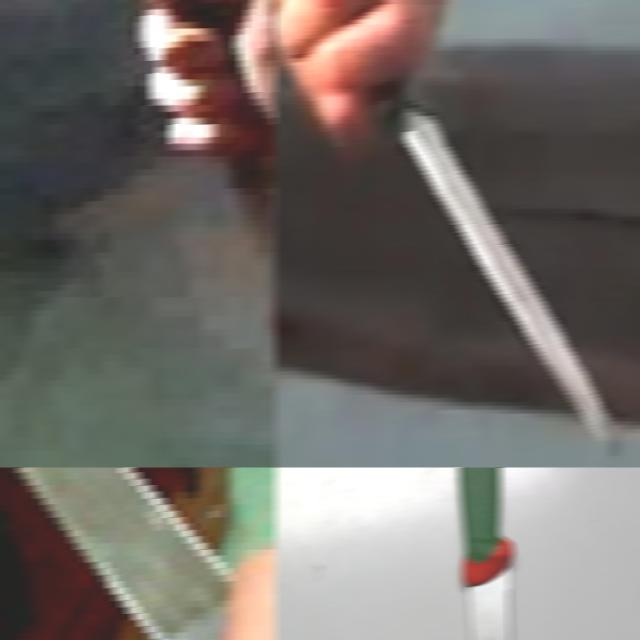Knife: (373, 90, 620, 450), (458, 467, 514, 640)
Knife_Handle: (274, 0, 620, 449), (132, 0, 276, 402), (0, 467, 276, 640)
